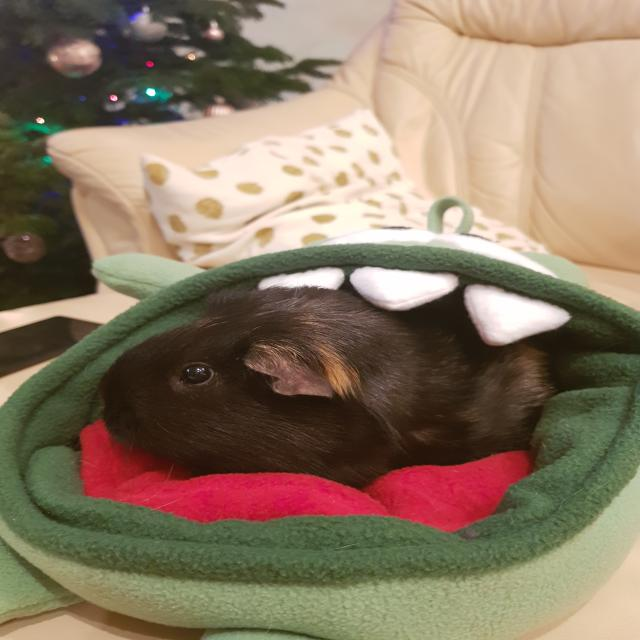guinea pig: (97, 284, 562, 491)
